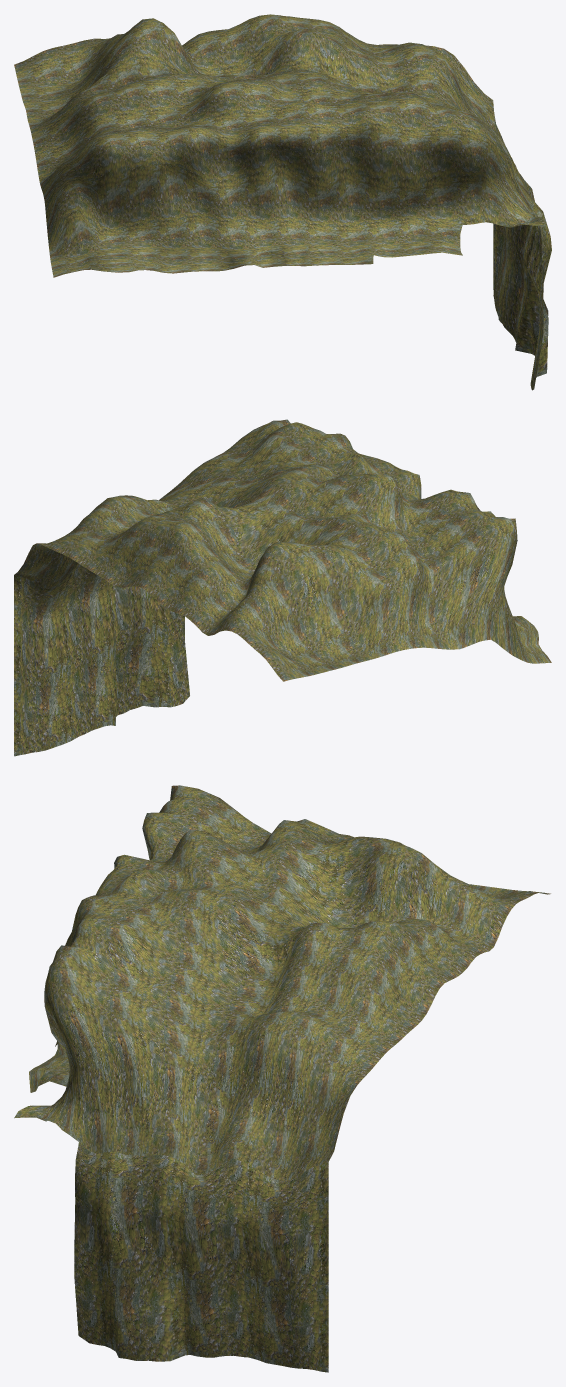
File: xuanya_3.FBX
The picture shows the model from 3 angles, top to bottom: view 1: azimuth 30°, elevation 25°; view 2: azimuth 150°, elevation 25°; view 3: azimuth 270°, elevation 25°; orthographic projection. The views are drawn at different scales.
Visible parts, largest first — view 1: shanti1; view 2: shanti1; view 3: shanti1.
Part boxes in pixels (x1,y1,x2,y2): shanti1: (14, 14, 551, 390); shanti1: (14, 419, 551, 756); shanti1: (14, 785, 550, 1372).
Bounding box in the file's own units: 26340 × 16839 × 22010.
1 material, 1 textured.
